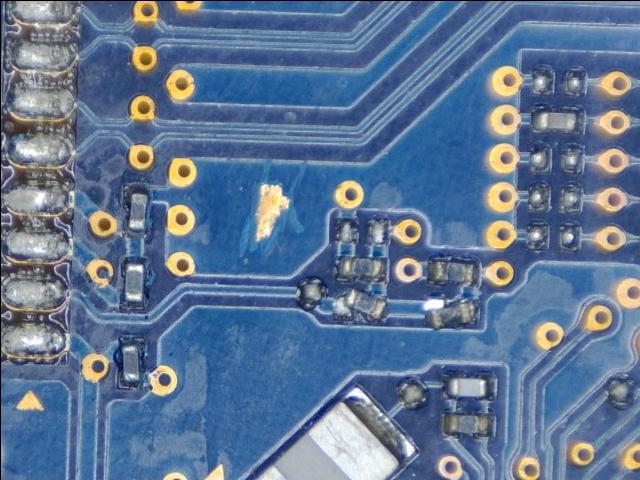Dry_joint: (1, 322, 64, 358), (3, 228, 68, 262), (11, 39, 75, 72), (9, 85, 73, 118), (5, 276, 67, 310), (8, 134, 69, 166), (7, 185, 68, 214), (11, 1, 77, 23)
Incorrect_installation: (335, 289, 387, 322), (423, 299, 478, 329)
